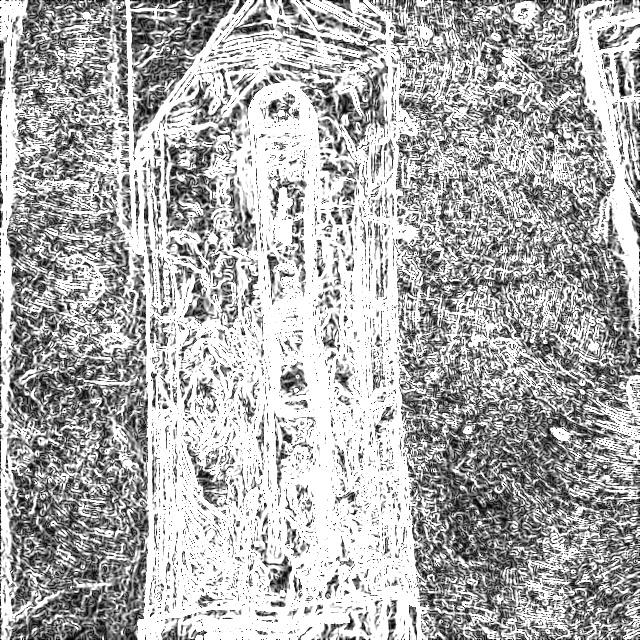separador: (250, 83, 338, 577)
